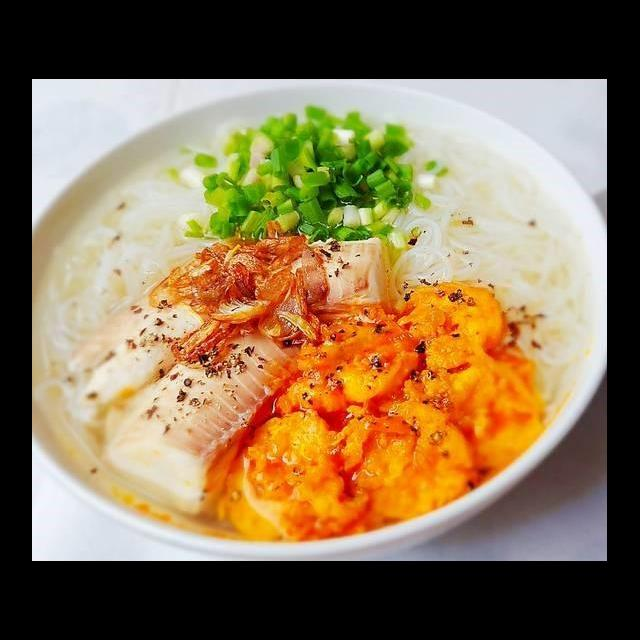bun: (380, 113, 606, 281), (36, 137, 212, 283)
bun ca: (54, 106, 608, 534)
ca: (61, 223, 406, 423), (102, 313, 310, 517)
tom: (336, 389, 480, 524), (270, 307, 422, 434), (389, 279, 514, 382)
